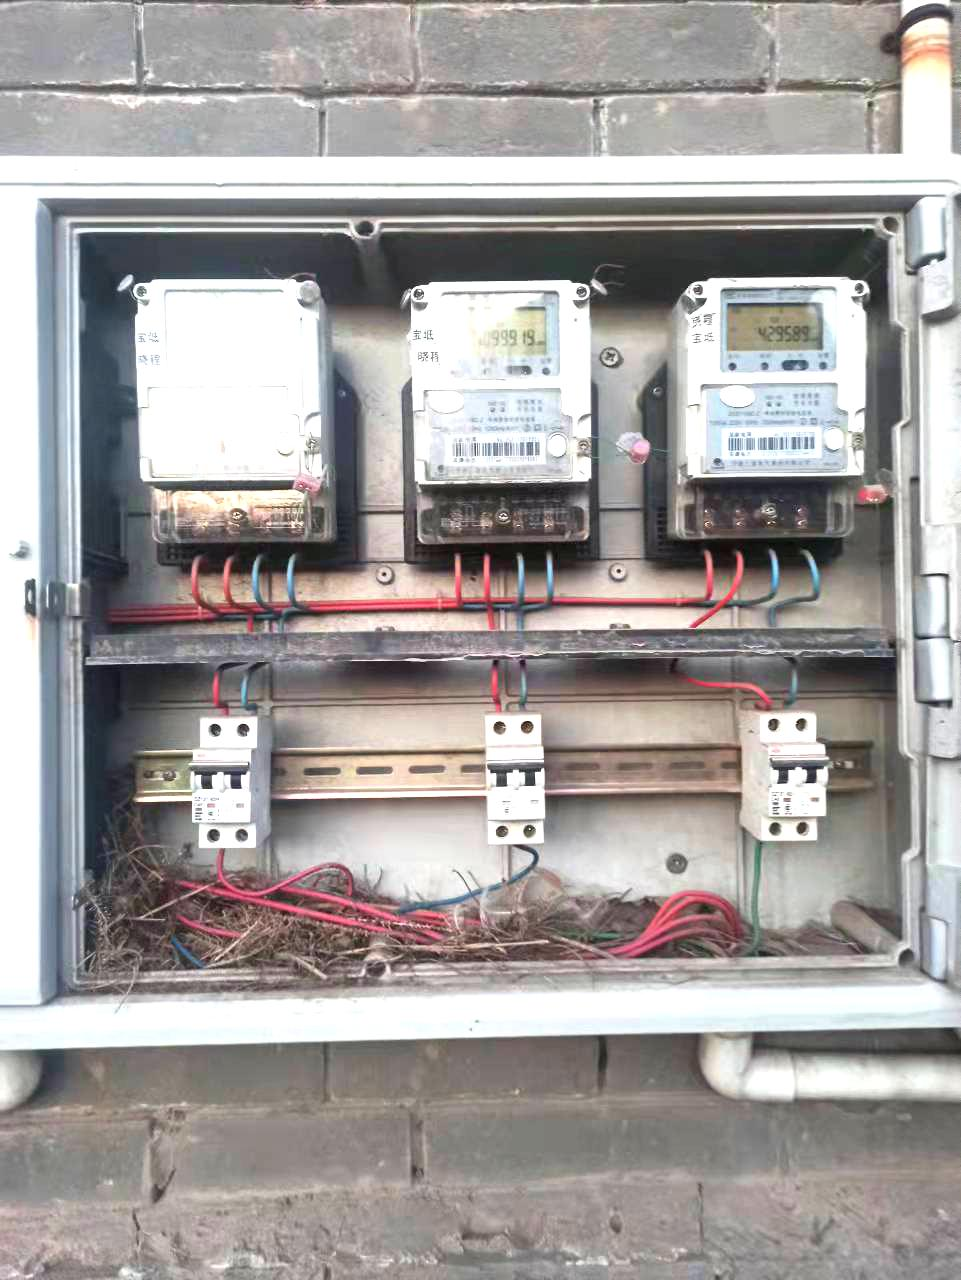digital: (135, 280, 325, 484), (683, 275, 863, 479), (412, 280, 592, 481)
